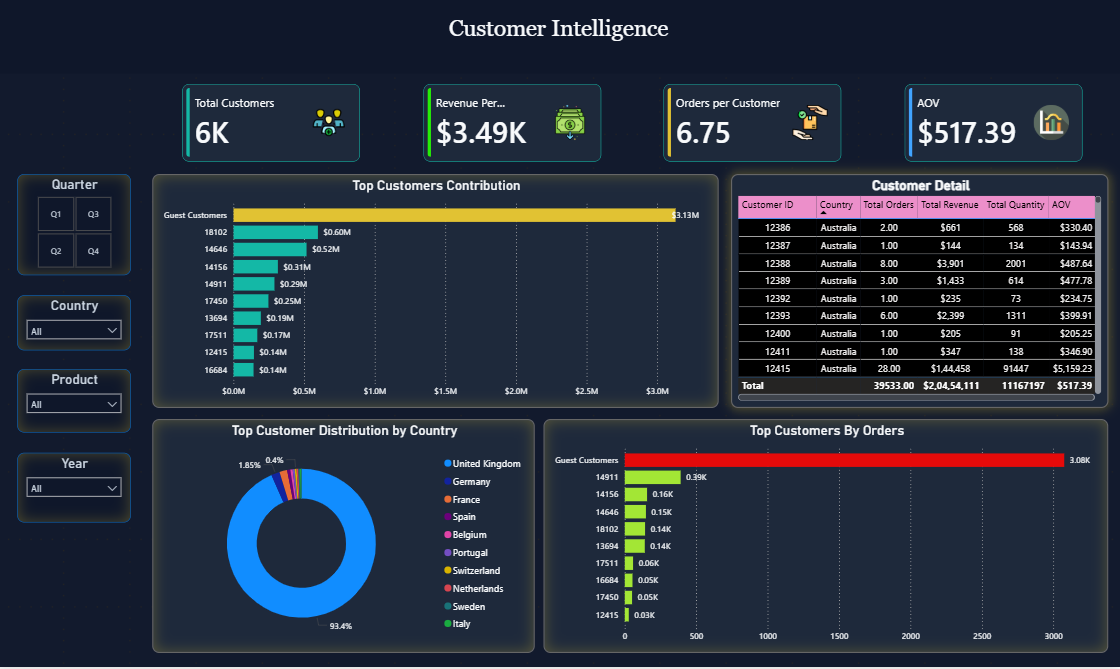

What the dashboard file says about the page in this screenshot:
{"tool":"powerbi","page":{"name":"Customer","canvas":[1600,950],"ordinal":1},"visuals":[{"type":"barChart","title":"Top Customers Contribution","fields":{"Category":["DimCustomer.Customer ID"],"Y":["online_retail_II.Total Revenue"]},"box":[222.2,248.9,805.3,332.4],"z":0},{"type":"donutChart","title":"Top Customer Distribution by Country","fields":{"Category":["DimCountry.Country"],"Y":["online_retail_II.Total Customers"]},"box":[222.2,597.3,544,332.4],"z":1000},{"type":"tableEx","title":"Customer Detail","fields":{"Values":["DimCustomer.Customer ID","DimCountry.Country","online_retail_II.Total Orders","online_retail_II.Total Revenue","online_retail_II.Total Quantity","online_retail_II.AOV"]},"box":[1045.3,248.9,536.9,332.4],"z":2000},{"type":"clusteredBarChart","title":"Top Customers By Orders","fields":{"Category":["DimCustomer.Customer ID"],"Y":["online_retail_II.Total Orders"]},"box":[778.7,597.3,803.6,332.4],"z":3000},{"type":"cardVisual","fields":{"Data":["online_retail_II.Total Customers"]},"box":[264.9,120.9,252.4,110.2],"z":4000},{"type":"cardVisual","fields":{"Data":["online_retail_II.Revenue Per Customer"]},"box":[607.4,120.9,252.4,110.2],"z":5000},{"type":"cardVisual","fields":{"Data":["online_retail_II.Orders per Customer"]},"box":[949.9,120.9,252.4,110.2],"z":6000},{"type":"cardVisual","fields":{"Data":["online_retail_II.AOV"]},"box":[1292.4,120.9,252.4,110.2],"z":7000},{"type":"slicer","title":"Quarter","fields":{"Values":["Date Table.Quarter"]},"box":[30.2,248.9,161.8,144],"z":8000},{"type":"slicer","title":"Country","fields":{"Values":["DimCountry.Country"]},"box":[30.2,420.7,161.8,78.2],"z":9000},{"type":"slicer","title":"Product","fields":{"Values":["online_retail_II.Description"]},"box":[30.2,526.8,161.8,90.7],"z":10000},{"type":"slicer","title":"Year","fields":{"Values":["Date Table.Year"]},"box":[30.2,645.3,161.8,99.6],"z":11000},{"type":"textbox","box":[0,0,1600,106.7],"z":12000}]}

Visuals, with their boxes in screenshot pixels (x1, y1, x2, y2), scaled from the page's 1600x950 canvas onto the 1120x669 screenshot:
"Top Customers Contribution" barChart: [left=156, top=175, right=719, bottom=409]
"Top Customer Distribution by Country" donutChart: [left=156, top=421, right=536, bottom=655]
"Customer Detail" tableEx: [left=732, top=175, right=1108, bottom=409]
"Top Customers By Orders" clusteredBarChart: [left=545, top=421, right=1108, bottom=655]
cardVisual - online_retail_II.Total Customers: [left=185, top=85, right=362, bottom=163]
cardVisual - online_retail_II.Revenue Per Customer: [left=425, top=85, right=602, bottom=163]
cardVisual - online_retail_II.Orders per Customer: [left=665, top=85, right=842, bottom=163]
cardVisual - online_retail_II.AOV: [left=905, top=85, right=1081, bottom=163]
"Quarter" slicer: [left=21, top=175, right=134, bottom=277]
"Country" slicer: [left=21, top=296, right=134, bottom=351]
"Product" slicer: [left=21, top=371, right=134, bottom=435]
"Year" slicer: [left=21, top=454, right=134, bottom=525]
textbox: [left=0, top=0, right=1119, bottom=75]
